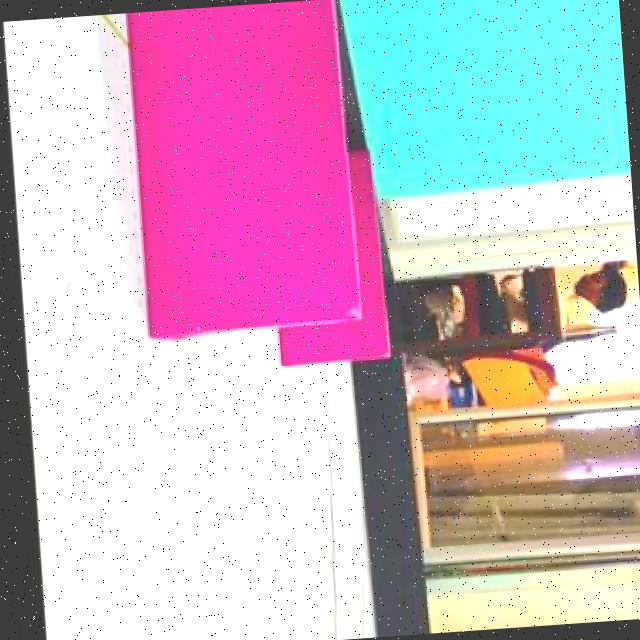xparking: (126, 0, 350, 339)
